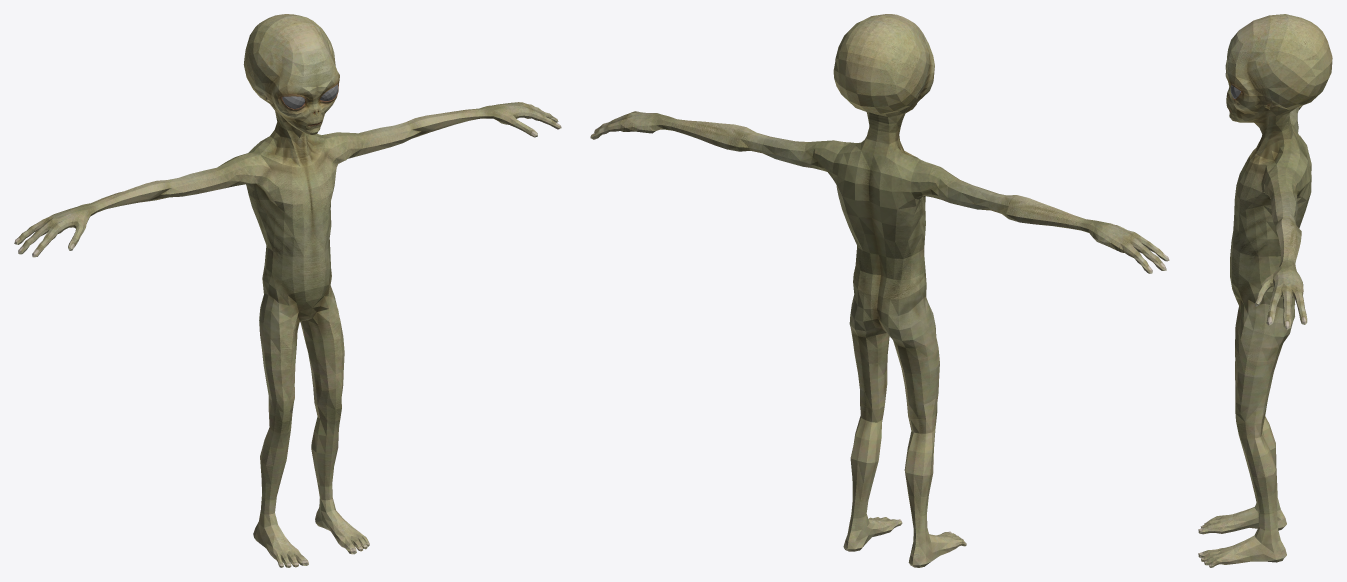
The model's file is alien_guy.gltf.
3 views of the same model, side by side, from view 1: azimuth 30°, elevation 25°; view 2: azimuth 150°, elevation 25°; view 3: azimuth 270°, elevation 25° (orthographic). The views are drawn at different scales.
Size of the model in its own units: 2.5 by 2.26 by 0.522.
4 materials, 4 textured.
